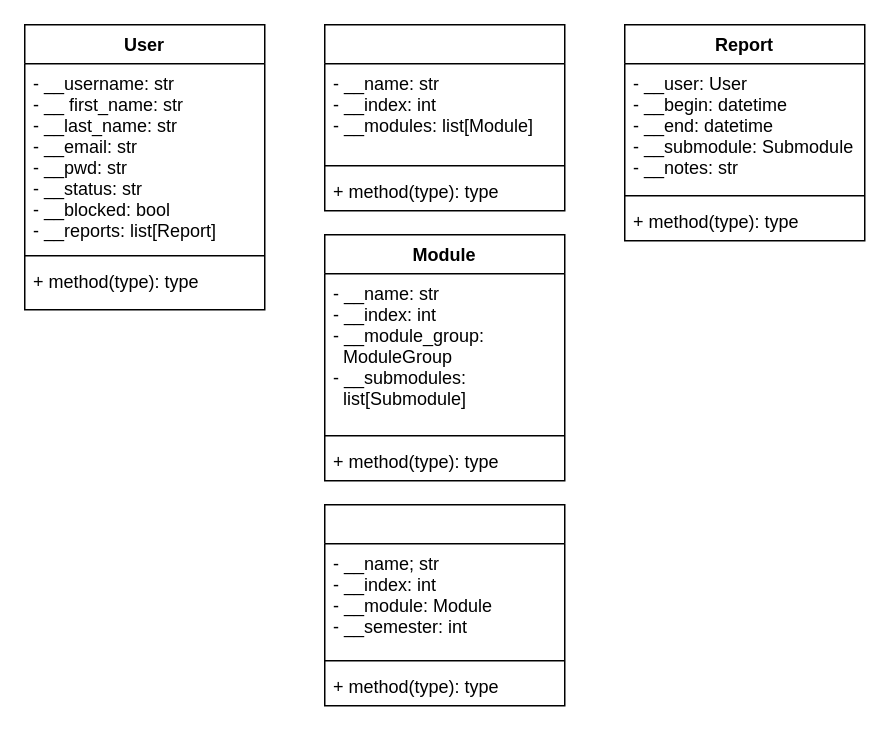
Image size: 890x731. Some labels were removed from this diagram. The box of each missing label's shape, as (x1, y1, x2, y2) in pixels:
ModuleGroup: (323, 23, 565, 211)
Submodule: (323, 503, 565, 706)
